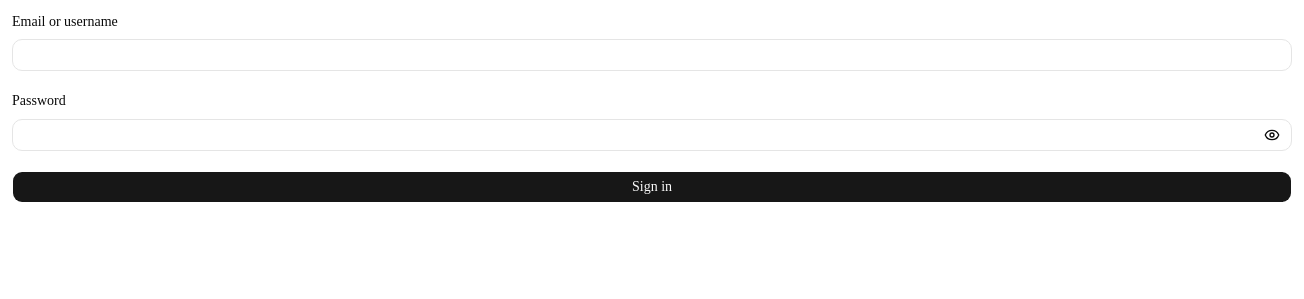
LoginForm › shows an invalid-credentials message and does not redirect
Step 1. Type "test.user@example.com" into the field labelled "Email or username" → (652, 55), box [12,39,1292,71]
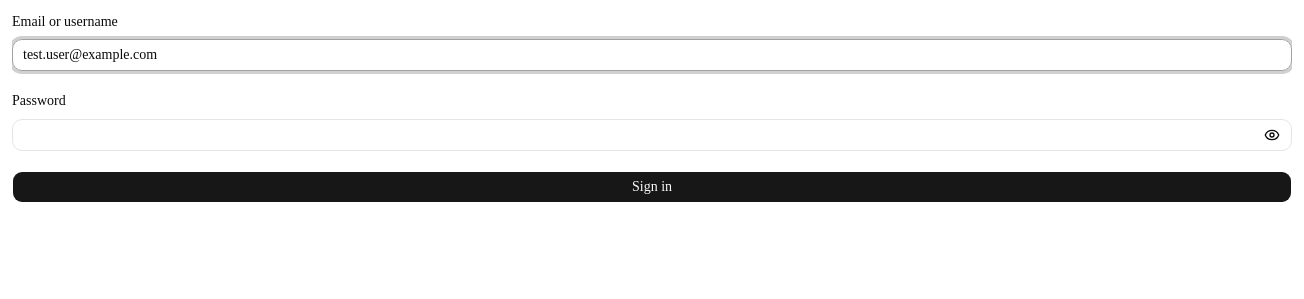
Step 2. Type "wrong-password" into the password field labelled "Password" → (652, 134), box [12,118,1292,150]
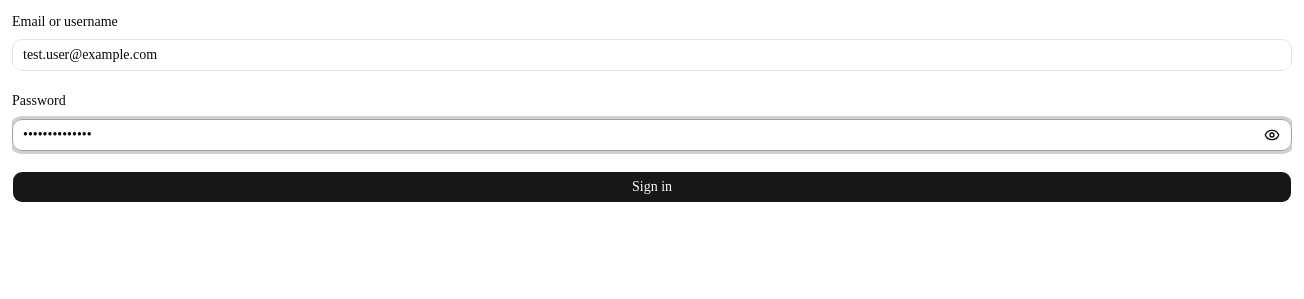
Step 3. Click the button "Sign in" → click(652, 186), box [12,170,1292,202]
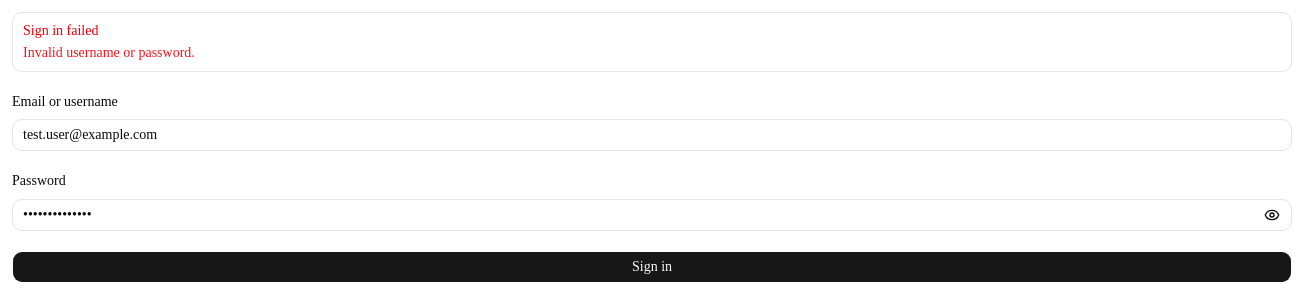
Expected: the text "Invalid username or password." is shown, [23,45,195,60]
